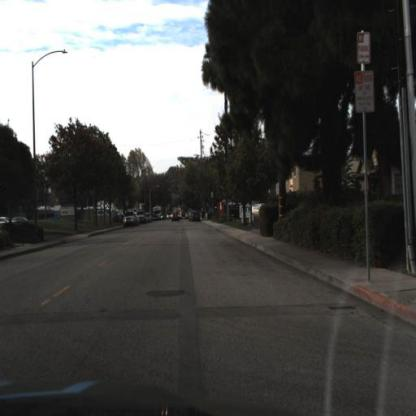car: (244, 196, 271, 230), (122, 207, 139, 231), (15, 210, 36, 229), (190, 207, 203, 227), (170, 207, 183, 225)
